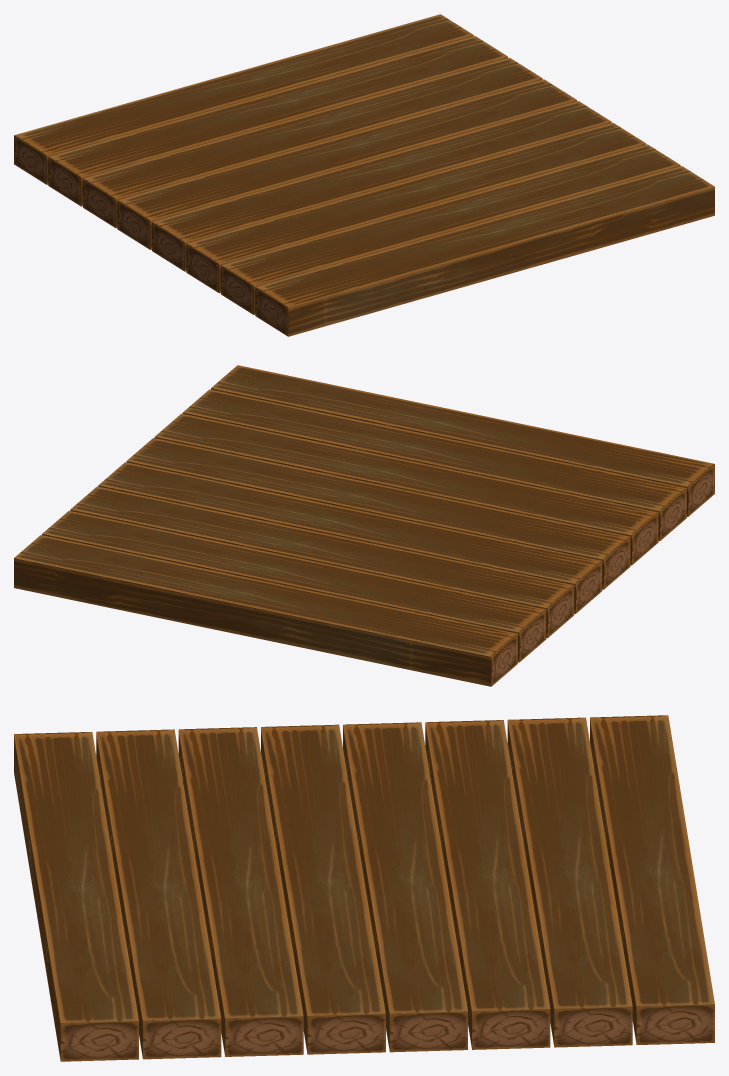
3 renders of one model, top to bottom at view 1: azimuth 30°, elevation 25°; view 2: azimuth 150°, elevation 25°; view 3: azimuth 270°, elevation 25°, orthographic. The views are drawn at different scales.
Parts seen in each view (by area): view 1: Cube.1500; view 2: Cube.1500; view 3: Cube.1500.
Part boxes in pixels (box(x1,y1,x2,y2)): Cube.1500: box(14, 14, 714, 336); Cube.1500: box(14, 365, 714, 686); Cube.1500: box(14, 715, 714, 1061).
Bounding box in the file's own units: 532 × 31.13 × 512.
1 material, 1 textured.
